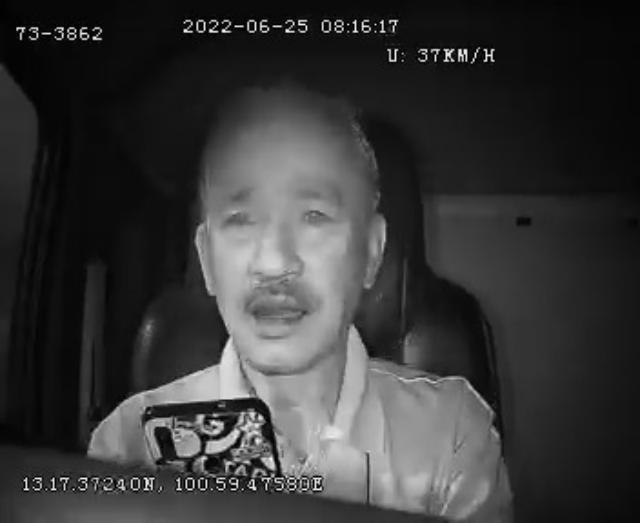PhoneUse: (141, 398, 285, 478)
SafeDriving: (212, 192, 269, 240), (291, 188, 340, 232)
